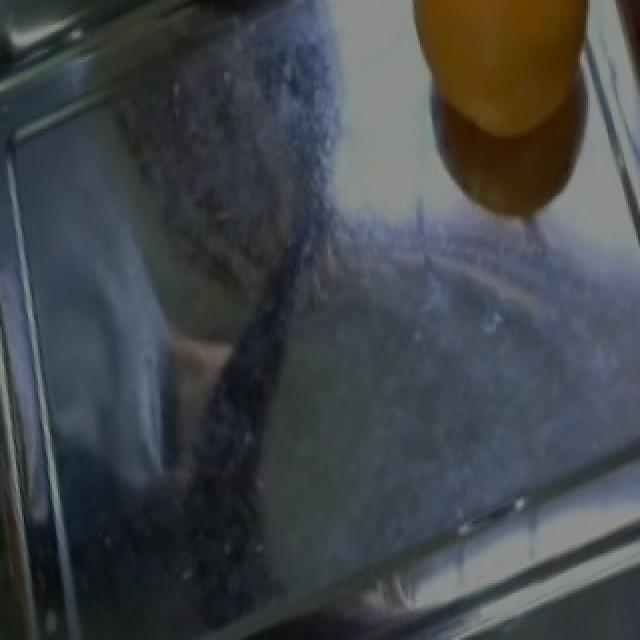Fruit: (376, 2, 626, 159)
